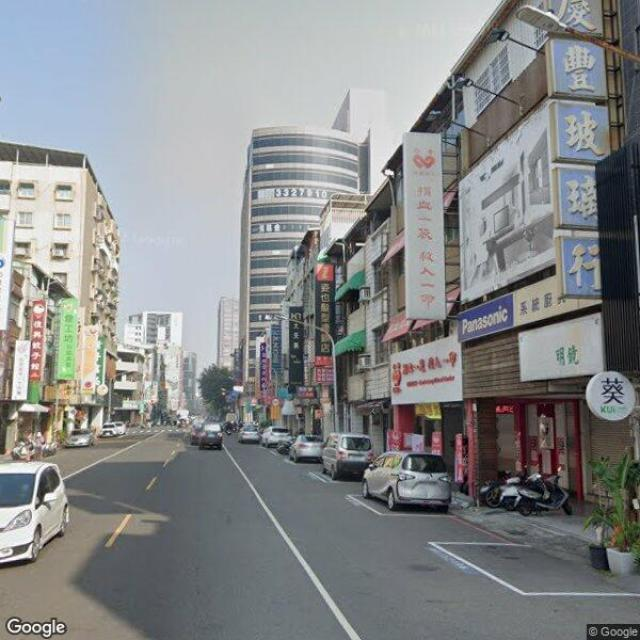Legalparking: (238, 404, 477, 526)
illegalparking: (32, 412, 134, 456)
